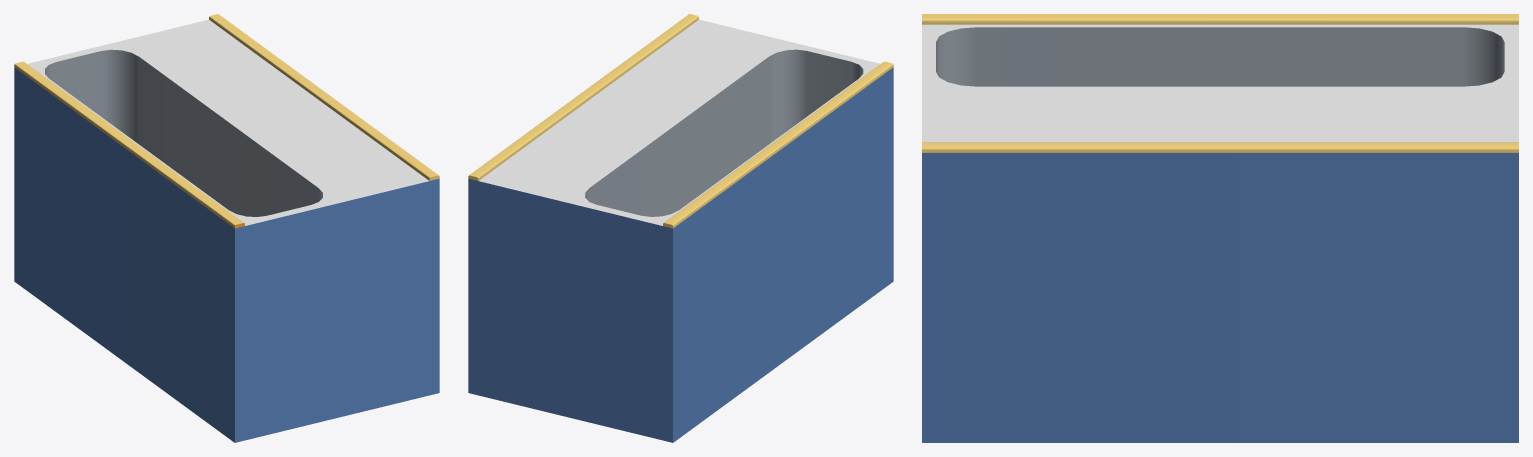
3 views of the same model, side by side, from view 1: azimuth 30°, elevation 25°; view 2: azimuth 150°, elevation 25°; view 3: azimuth 270°, elevation 25° (orthographic). The views are drawn at different scales.
Visible parts, largest first — view 1: e5; view 2: e5; view 3: e5.
Part boxes in pixels (x1=…): e5: x1=14, y1=14, x2=439, y2=442; e5: x1=468, y1=14, x2=893, y2=442; e5: x1=922, y1=14, x2=1518, y2=442.
Size of the model in its own units: 700 by 711 by 1306.
1 material, 1 textured.
